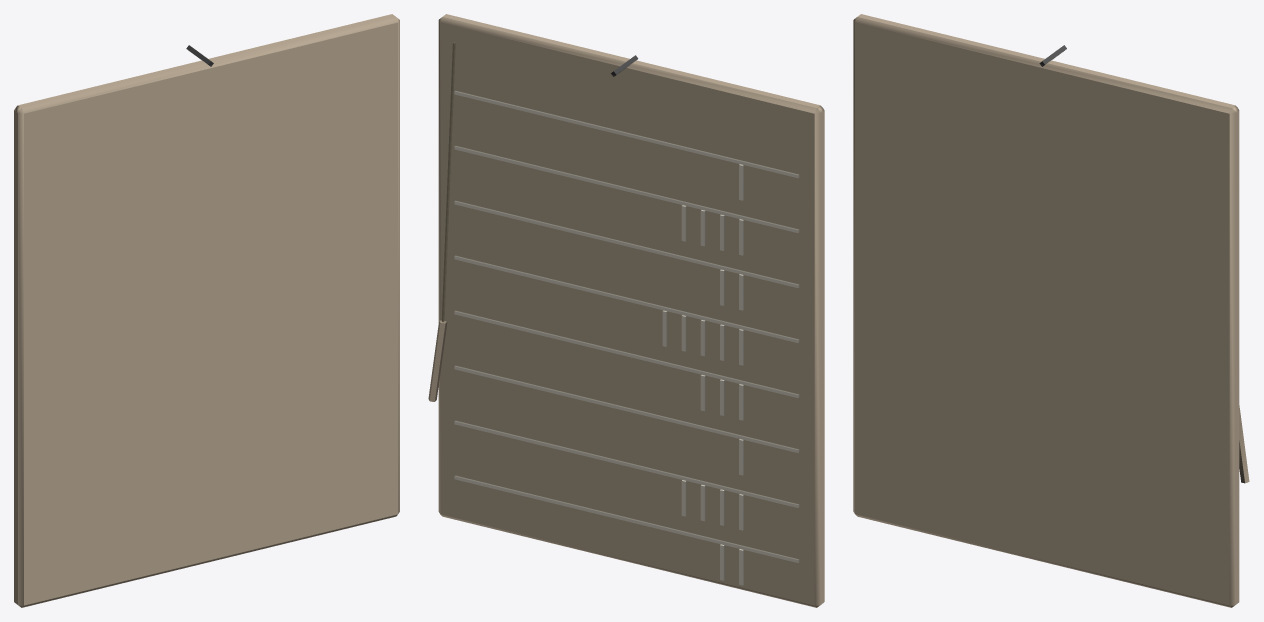
File: tally_board.glb
The picture shows the model from 3 angles, left to right: view 1: azimuth 30°, elevation 25°; view 2: azimuth 150°, elevation 25°; view 3: azimuth 330°, elevation 25°; orthographic projection.
Visible parts, largest first — view 1: static; view 2: static; view 3: static.
Part boxes in pixels (box(x1,y1,x2,y2)): static: box(14, 14, 399, 607); static: box(428, 14, 824, 607); static: box(853, 14, 1249, 607).
Bounding box in the file's own units: 0.4039 × 0.503 × 0.04.
